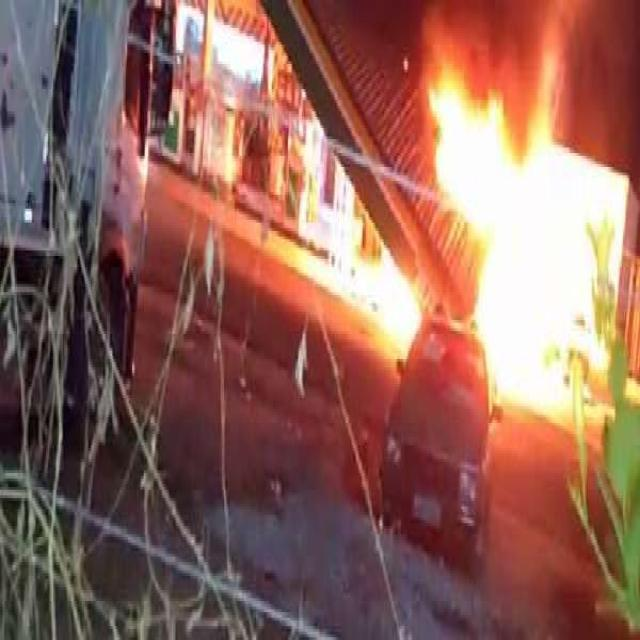Fire: (295, 74, 603, 416)
Smoke: (282, 0, 624, 72)
